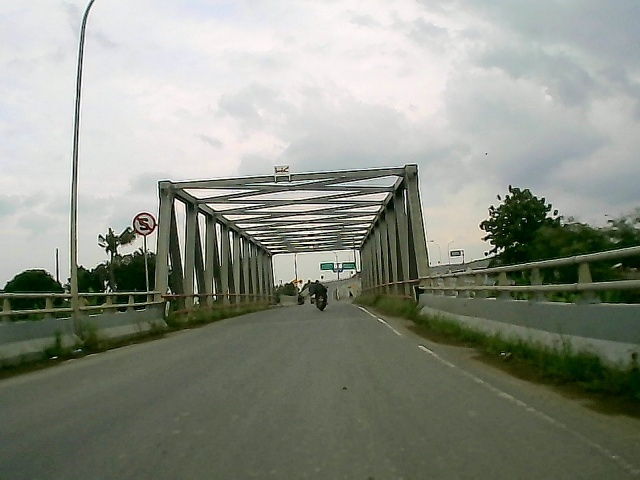Dilarang berhenti: (132, 211, 157, 236)
